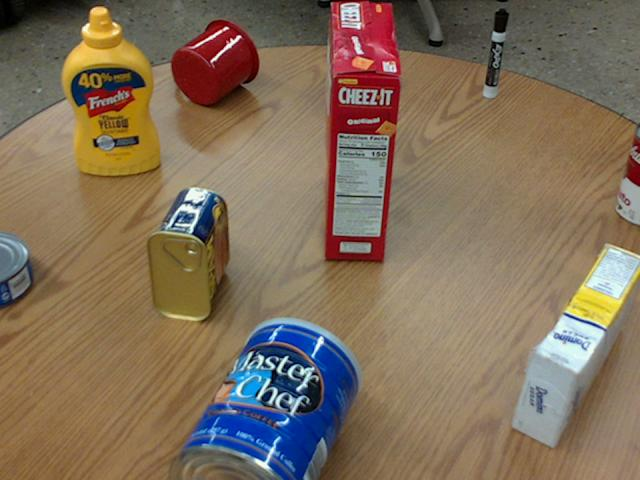cracker_box: (318, 2, 399, 259)
gelatin_box: (327, 20, 355, 97)
large_marker: (483, 9, 508, 96)
master_chef_can: (168, 317, 360, 479)
mug: (170, 18, 258, 104)
mustard_bottle: (62, 7, 158, 174)
potted_meat_can: (144, 186, 225, 320)
sugar_box: (512, 244, 639, 448)
tomato_soup_can: (613, 121, 639, 226)
tuna_fish_can: (0, 230, 32, 305)
